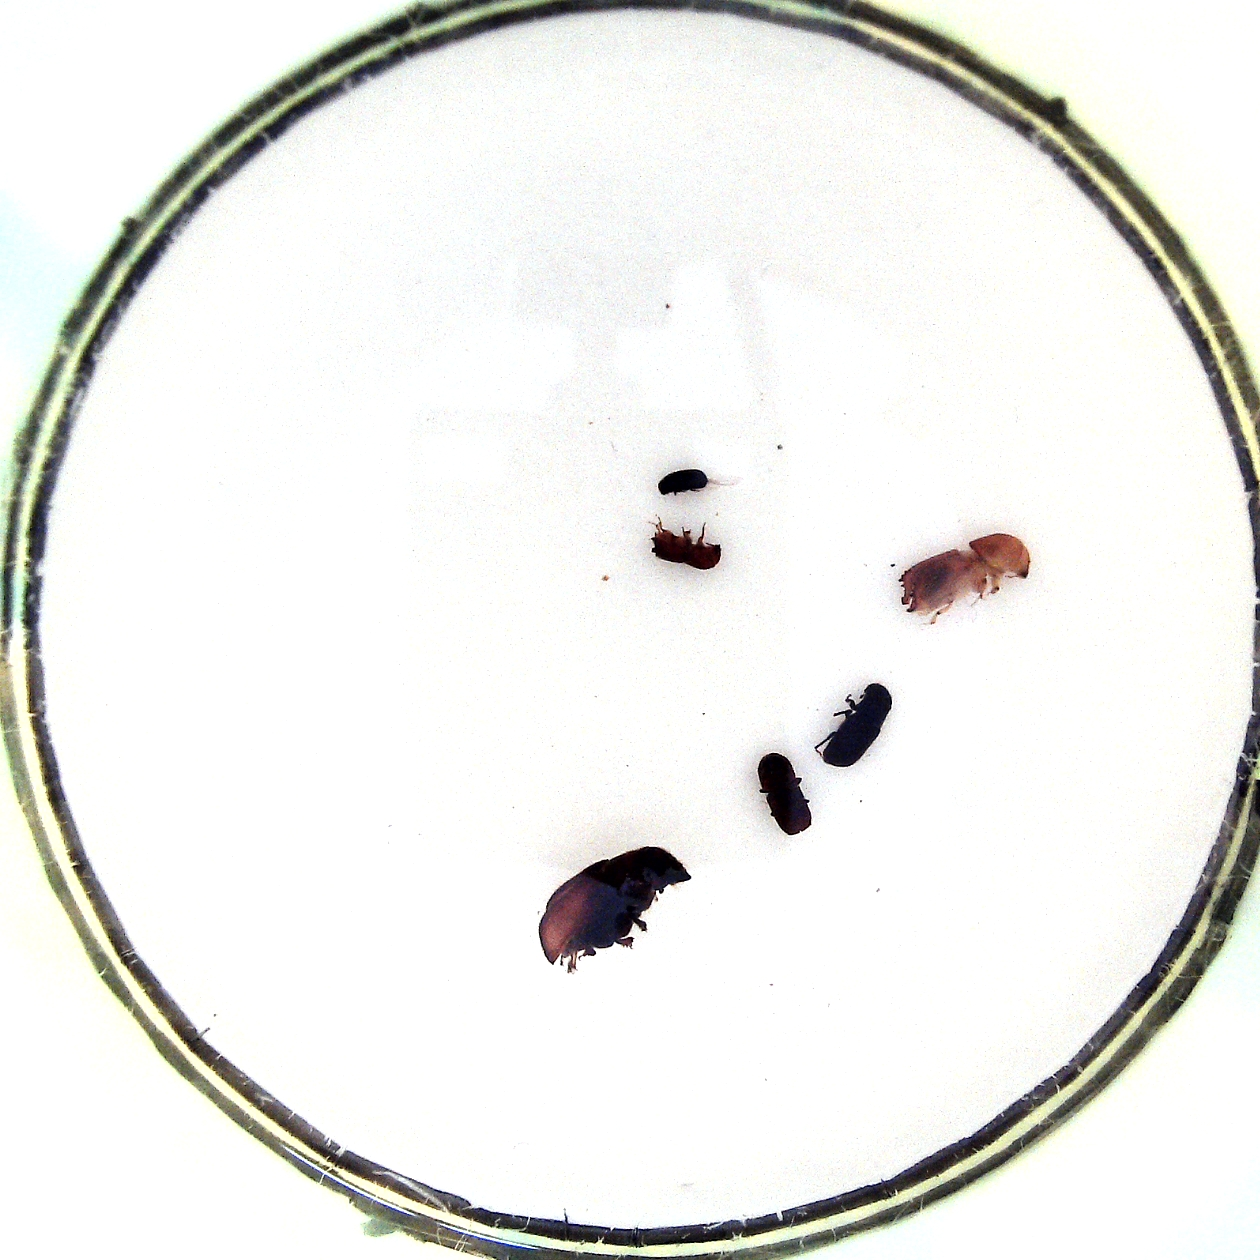Boerner: (897, 535, 1037, 620)
Leconte: (535, 846, 692, 974)
Linnaeus: (756, 751, 815, 838)
acuminatus: (648, 517, 723, 573)
armandi: (815, 681, 897, 767)
coleoptera: (651, 464, 714, 498)
